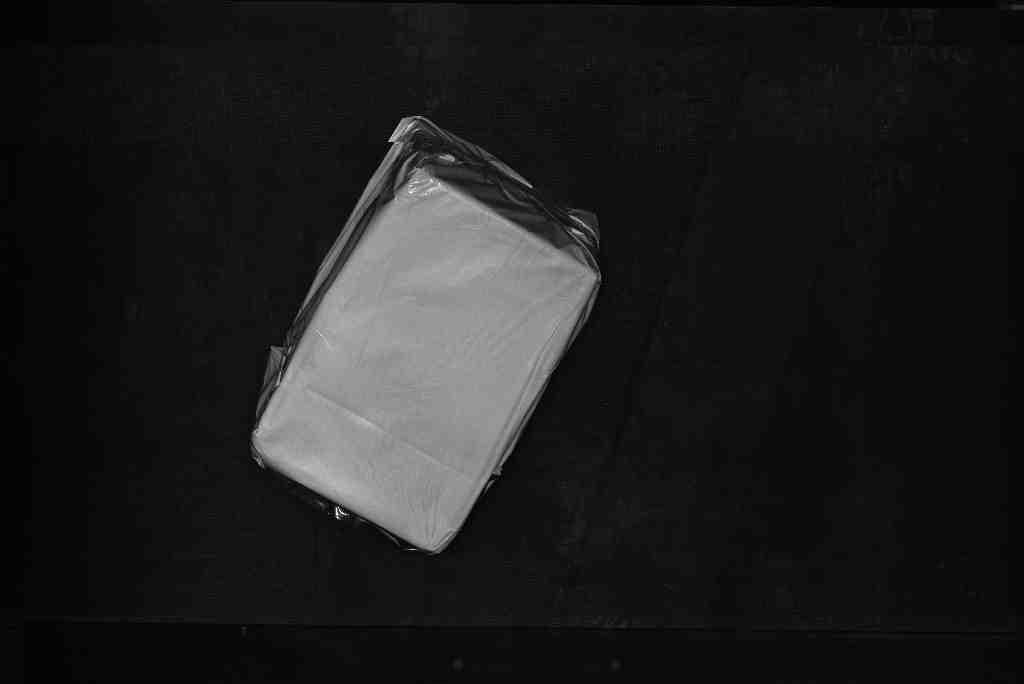box: (215, 113, 603, 563)
